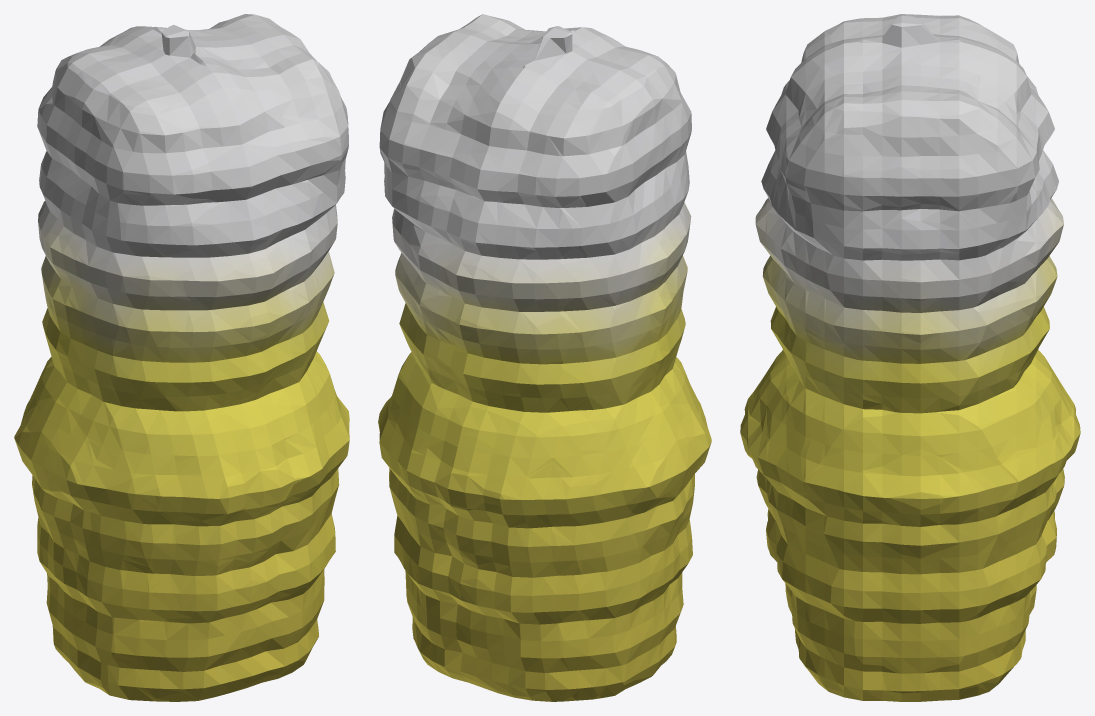
3 renders of one model, left to right at view 1: azimuth 30°, elevation 25°; view 2: azimuth 150°, elevation 25°; view 3: azimuth 270°, elevation 25°, orthographic.
Visible parts, largest first — view 1: geometry_0; view 2: geometry_0; view 3: geometry_0.
Boxes of the visible parts, x1,y1,x2,y2 form: geometry_0: [14, 14, 349, 701]; geometry_0: [378, 14, 711, 701]; geometry_0: [740, 14, 1080, 701].
Bounding box in the file's own units: 0.7551 × 1.56 × 0.7541.
